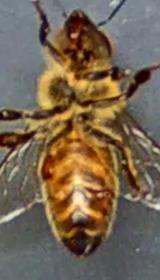varroa_mite: (32, 140, 63, 187)
